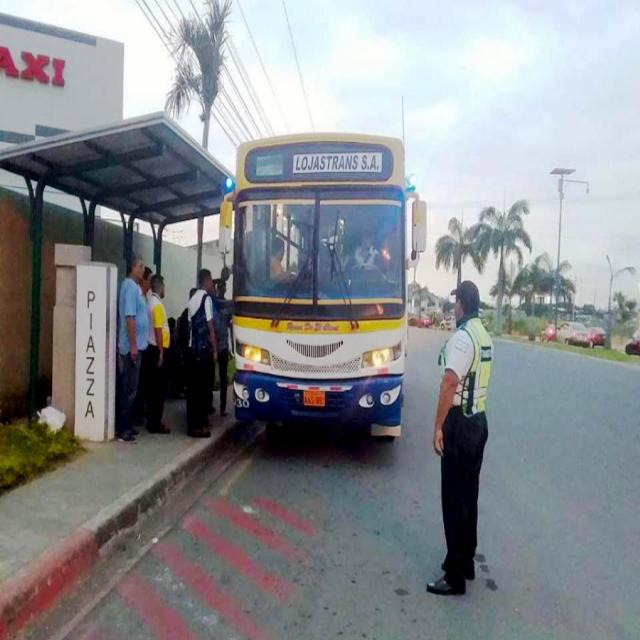BUS: (223, 128, 421, 444)
